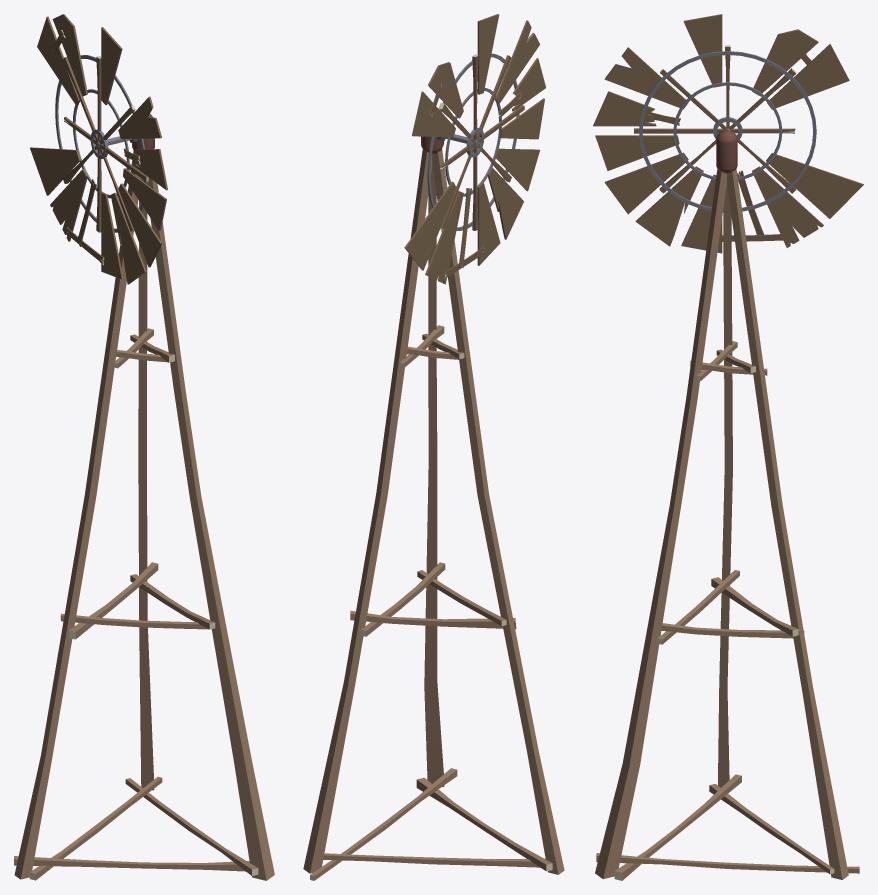
Rendered from P_WindTurbine_01_LD.fbx.
3 views of the same model, side by side, from view 1: azimuth 30°, elevation 25°; view 2: azimuth 150°, elevation 25°; view 3: azimuth 270°, elevation 25° (orthographic). The views are drawn at different scales.
Visible parts, largest first — view 1: P_WindTurbine_01; view 2: P_WindTurbine_01; view 3: P_WindTurbine_01.
Boxes of the visible parts, bbox=[...] form: P_WindTurbine_01: bbox=[14, 14, 274, 880]; P_WindTurbine_01: bbox=[303, 14, 564, 880]; P_WindTurbine_01: bbox=[593, 14, 863, 880].
Bounding box in the file's own units: 361 × 1440 × 435.
